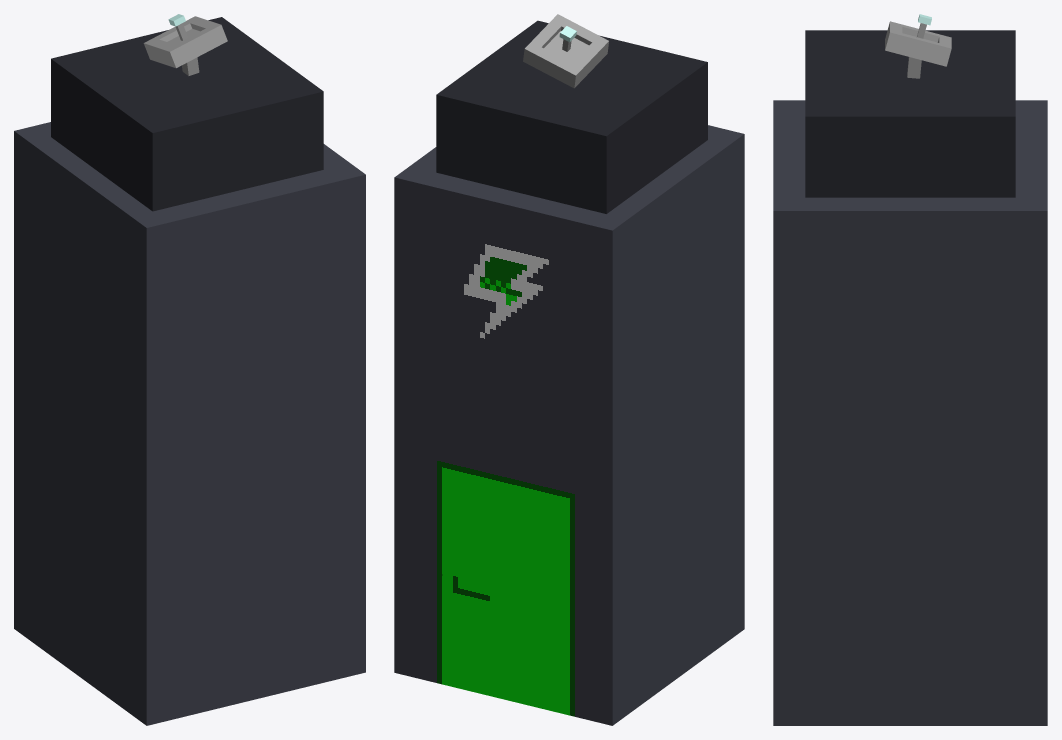
The model's file is Gamejolt.gltf.
The picture shows the model from 3 angles, left to right: view 1: azimuth 30°, elevation 25°; view 2: azimuth 150°, elevation 25°; view 3: azimuth 270°, elevation 25°; orthographic projection. The views are drawn at different scales.
Visible parts, largest first — view 1: cube (×4); view 2: cube (×5); view 3: cube (×3).
Part boxes in pixels (x1,y1,x2,y2): cube (×4): (14, 17, 365, 725); cube (×5): (394, 14, 744, 725); cube (×3): (773, 28, 1047, 725).
Size of the model in its own units: 2.56 by 7.06 by 2.69.
1 material, 1 textured.
